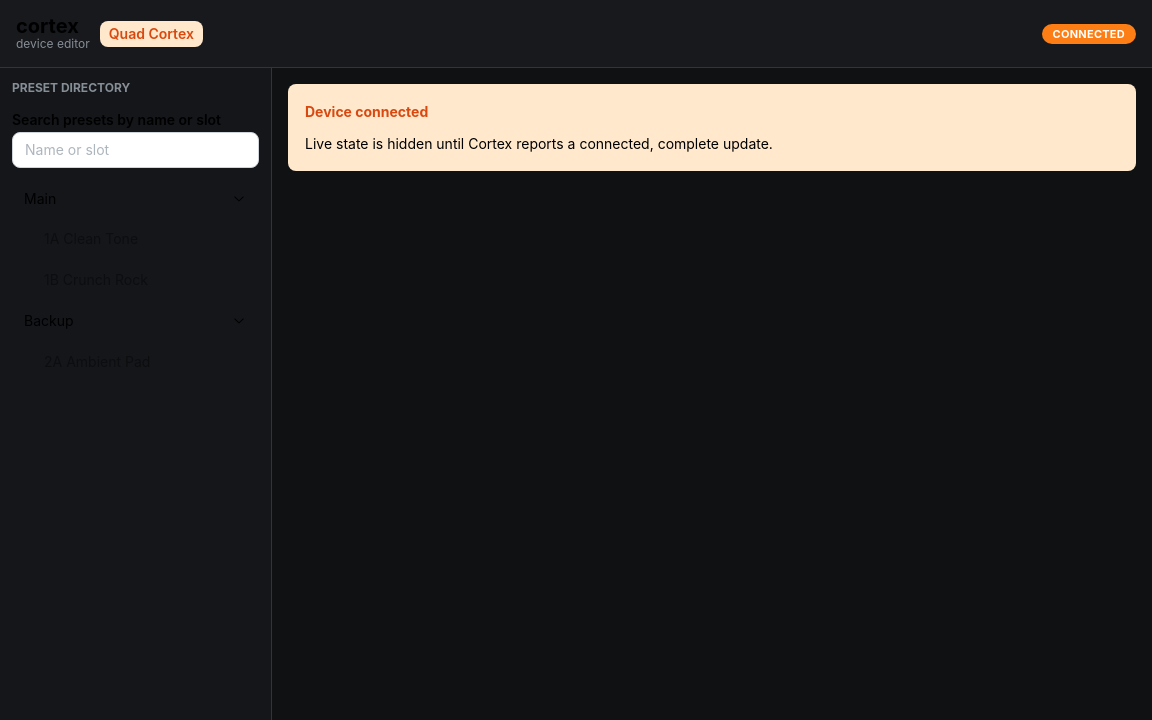
Test: preset directory search › shows a distinct no-match message rather than the unavailable-directory message
The width and height of the screenshot is (1152, 720).
In the search field labelled "Search presets by name or slot": (136,150) [12, 132, 259, 168], type "zzz-no-such-preset"
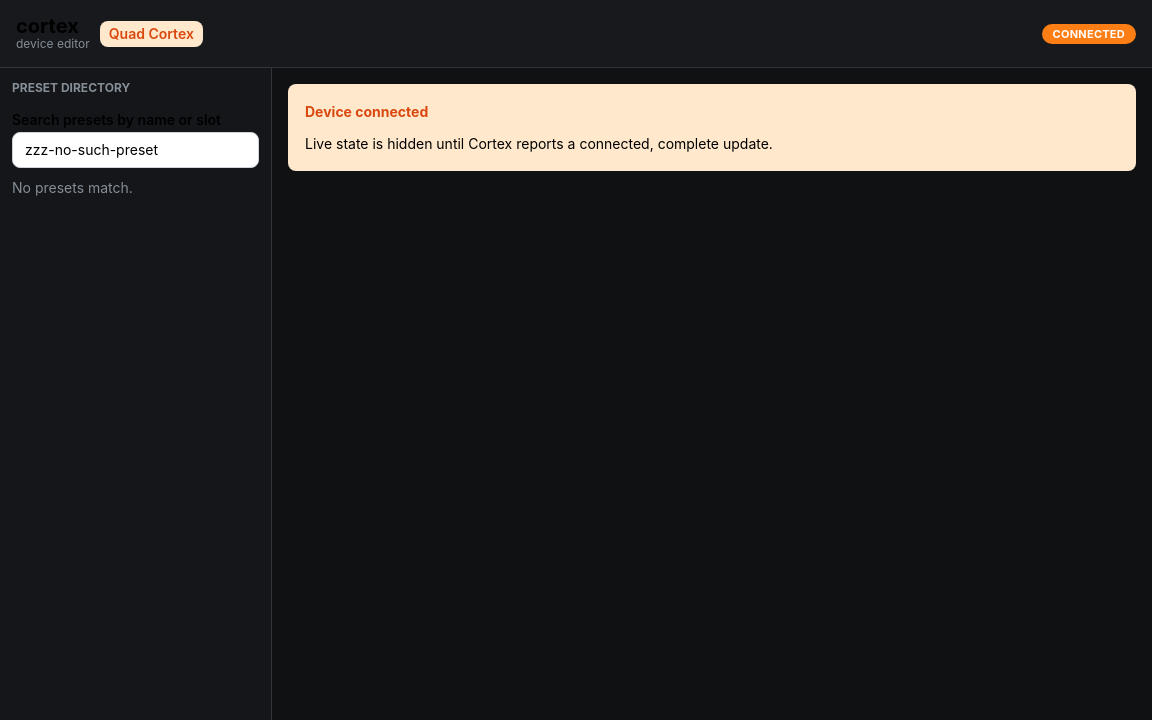
Expected: the button "1A Clean Tone" is not shown
Expected: the text "No presets match." is shown, [12, 179, 133, 196]
